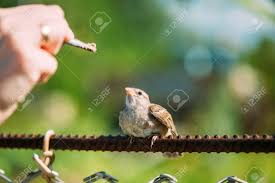hsparrow: (116, 84, 191, 159)
